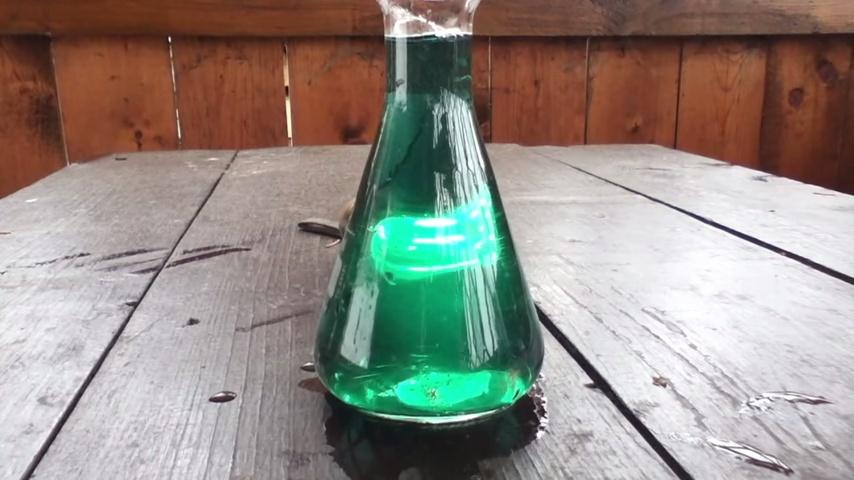Titrarion: (287, 14, 548, 425)
